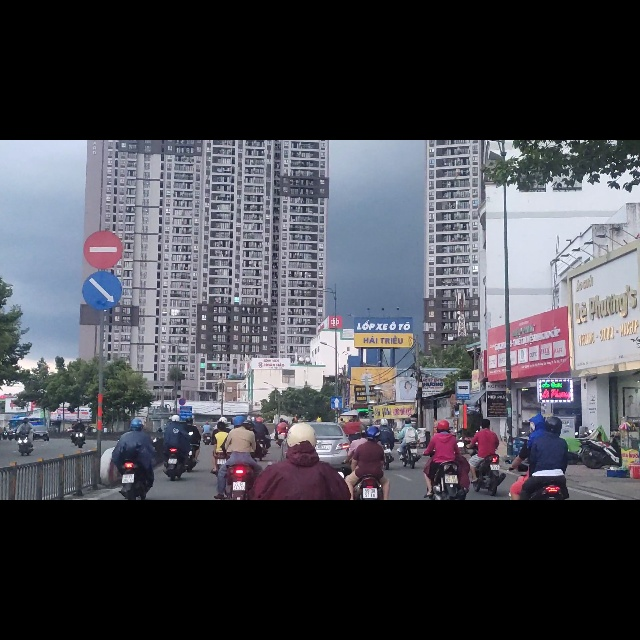bien_cam: (81, 230, 124, 303), (83, 158, 124, 232), (456, 428, 470, 462), (331, 456, 343, 476)
